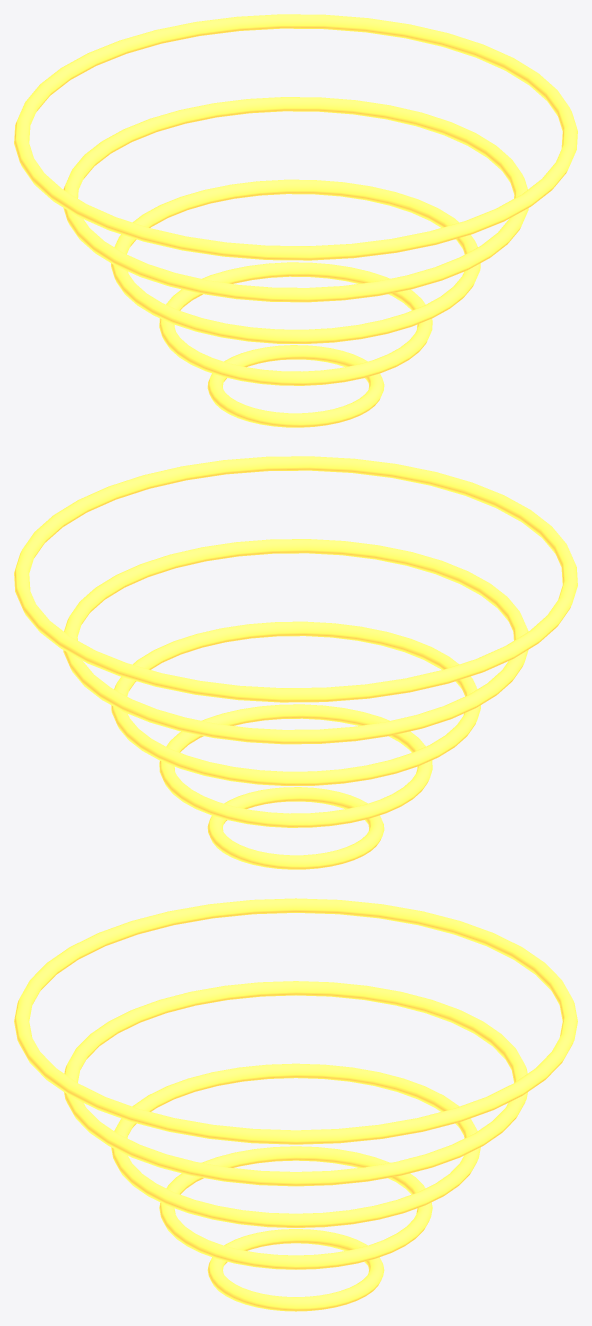
The model's file is Room_Hazard.glb.
3 renders of one model, top to bottom at view 1: azimuth 30°, elevation 25°; view 2: azimuth 150°, elevation 25°; view 3: azimuth 270°, elevation 25°, orthographic.
Parts seen in each view (by area): view 1: Room_Hazard; view 2: Room_Hazard; view 3: Room_Hazard.
Part boxes in pixels (x1,y1,x2,y2): Room_Hazard: [14, 14, 577, 427]; Room_Hazard: [14, 456, 577, 869]; Room_Hazard: [14, 898, 577, 1311].
Bounding box in the file's own units: 1.4 × 0.718 × 1.4.
